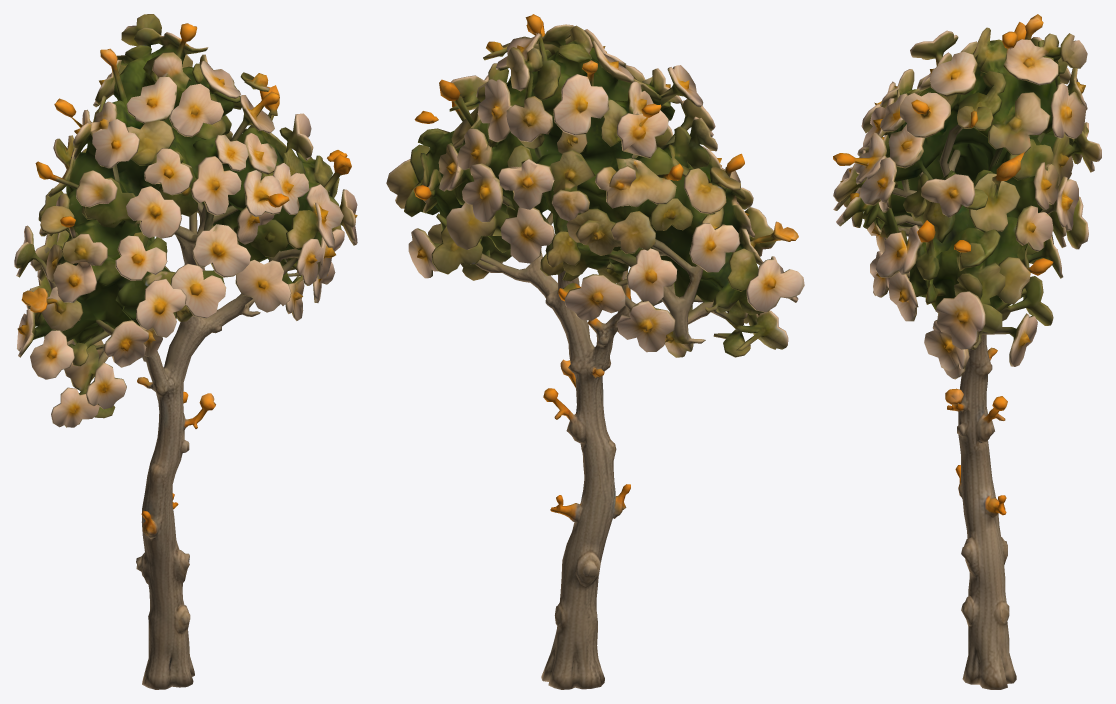
Rendered from white_blossom.glb.
3 views of the same model, side by side, from view 1: azimuth 30°, elevation 25°; view 2: azimuth 150°, elevation 25°; view 3: azimuth 270°, elevation 25° (orthographic). The views are drawn at different scales.
Visible parts, largest first — view 1: tripo_node_56bbadcc-da56-4af0-bb94-d1ed2d71230e; view 2: tripo_node_56bbadcc-da56-4af0-bb94-d1ed2d71230e; view 3: tripo_node_56bbadcc-da56-4af0-bb94-d1ed2d71230e.
Part boxes in pixels (x1,y1,x2,y2): tripo_node_56bbadcc-da56-4af0-bb94-d1ed2d71230e: [14, 14, 357, 689]; tripo_node_56bbadcc-da56-4af0-bb94-d1ed2d71230e: [386, 14, 804, 689]; tripo_node_56bbadcc-da56-4af0-bb94-d1ed2d71230e: [833, 14, 1101, 689].
Bounding box in the file's own units: 0.5919 × 0.9789 × 0.3621.
1 material, 1 textured.
